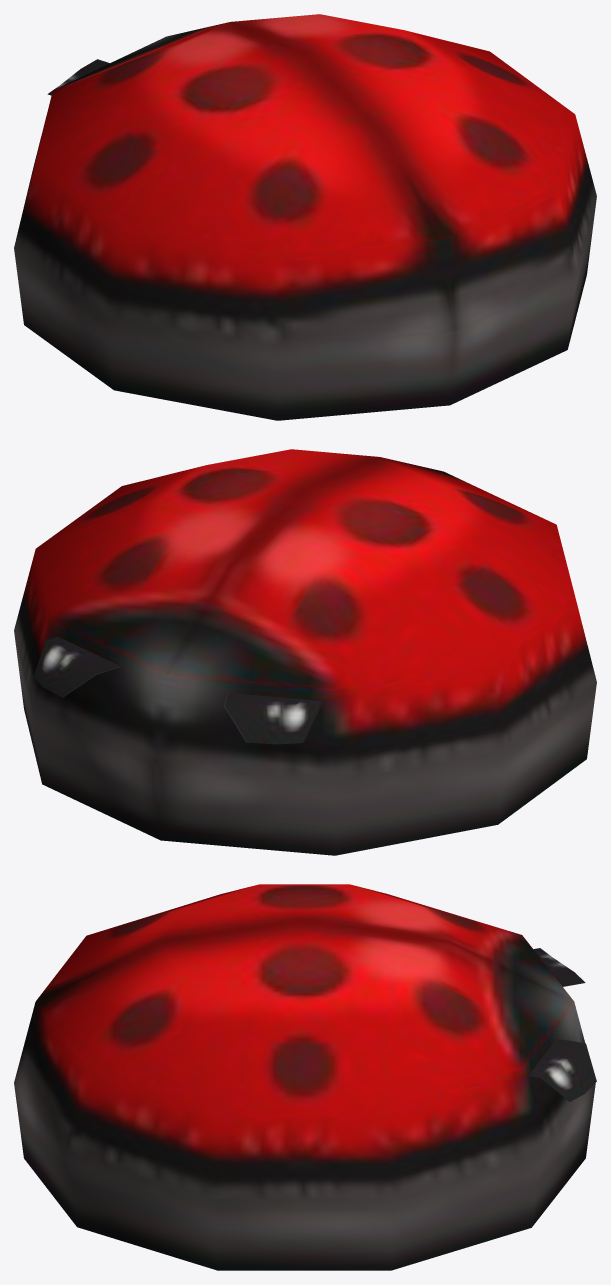
Rendered from bugRoomLadyBug.glb.
3 renders of one model, top to bottom at view 1: azimuth 30°, elevation 25°; view 2: azimuth 150°, elevation 25°; view 3: azimuth 270°, elevation 25°, orthographic. The views are drawn at different scales.
Visible parts, largest first — view 1: Beetle_bean_body; view 2: Beetle_bean_body, Beetle_bean_lftEye, Beetle_bean_rtEye; view 3: Beetle_bean_body, Beetle_bean_rtEye, Beetle_bean_lftEye.
Boxes of the visible parts, x1=… form: Beetle_bean_body: x1=14, y1=14, x2=596, y2=420; Beetle_bean_body: x1=14, y1=449, x2=596, y2=855; Beetle_bean_lftEye: x1=224, y1=693, x2=322, y2=744; Beetle_bean_rtEye: x1=33, y1=636, x2=120, y2=697; Beetle_bean_body: x1=14, y1=884, x2=595, y2=1270; Beetle_bean_rtEye: x1=528, y1=1038, x2=596, y2=1101; Beetle_bean_lftEye: x1=533, y1=948, x2=585, y2=986.
Size of the model in its own units: 3.99 by 1.9 by 4.22.
1 material, 1 textured.
